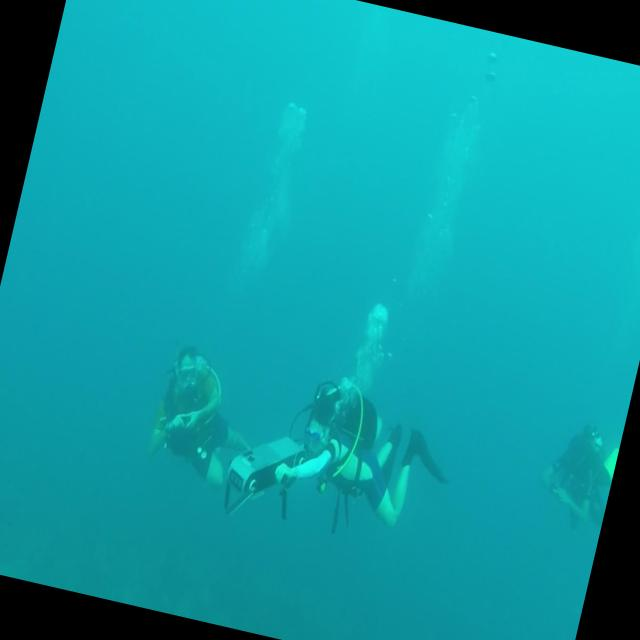human: (263, 364, 466, 554), (141, 338, 274, 496), (532, 413, 623, 533)
